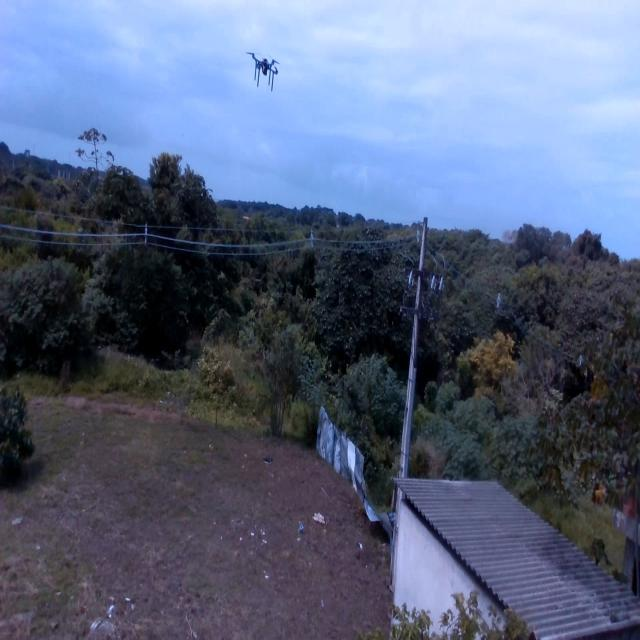-uav-: (244, 33, 288, 99)
